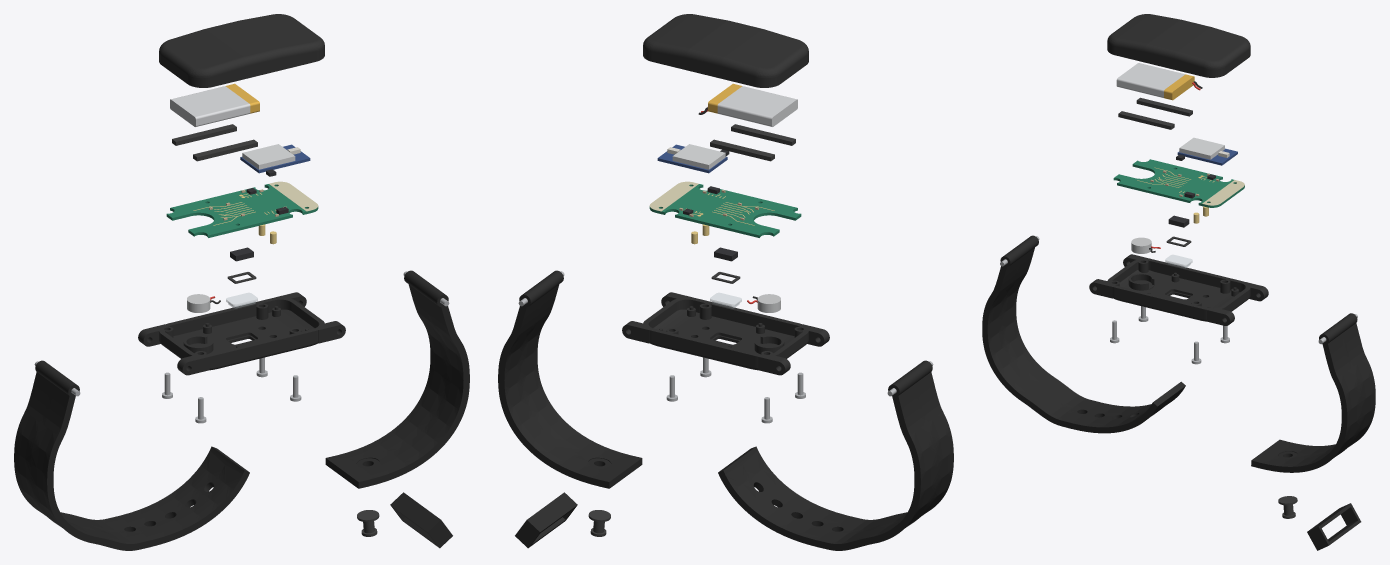
File: bracelet_exploded.glb
3 views of the same model, side by side, from view 1: azimuth 30°, elevation 25°; view 2: azimuth 150°, elevation 25°; view 3: azimuth 330°, elevation 25° (orthographic). The views are drawn at different scales.
Parts seen in each view (by area): view 1: Band_strap_B_long, Band_strap_A_short, Lower_housing, Upper_housing_removable_cover, PCB_main_board, LiPo_battery_pouch, Band_keeper_loop, Battery_foam_spacers, BLE_MCU_shield_can_nRF52832, PCB_antenna_keepout; view 2: Band_strap_B_long, Band_strap_A_short, Lower_housing, Upper_housing_removable_cover, PCB_main_board, LiPo_battery_pouch, Band_keeper_loop, Battery_foam_spacers, BLE_MCU_shield_can_nRF52832, PCB_antenna_keepout; view 3: Band_strap_B_long, Lower_housing, Band_strap_A_short, Upper_housing_removable_cover, PCB_main_board, LiPo_battery_pouch, Band_keeper_loop, Battery_foam_spacers, BLE_MCU_shield_can_nRF52832.
Boxes of the visible parts, x1,y1,x2,y2 form: Band_strap_B_long: (14, 360, 249, 550); Band_strap_A_short: (325, 270, 469, 488); Lower_housing: (138, 292, 345, 375); Upper_housing_removable_cover: (159, 14, 324, 87); PCB_main_board: (166, 184, 318, 237); LiPo_battery_pouch: (170, 86, 250, 126); Band_keeper_loop: (390, 492, 452, 548); Battery_foam_spacers: (172, 124, 257, 161); BLE_MCU_shield_can_nRF52832: (242, 144, 295, 169); PCB_antenna_keepout: (269, 181, 318, 211); Band_strap_B_long: (718, 360, 953, 550); Band_strap_A_short: (498, 270, 642, 488); Lower_housing: (622, 292, 829, 375); Upper_housing_removable_cover: (643, 14, 808, 87); PCB_main_board: (649, 184, 801, 237); LiPo_battery_pouch: (717, 86, 797, 126); Band_keeper_loop: (515, 492, 577, 548); Battery_foam_spacers: (710, 124, 795, 161); BLE_MCU_shield_can_nRF52832: (672, 144, 725, 169); PCB_antenna_keepout: (649, 181, 698, 211); Band_strap_B_long: (982, 235, 1185, 433); Lower_housing: (1089, 254, 1268, 325); Band_strap_A_short: (1251, 313, 1375, 472); Upper_housing_removable_cover: (1107, 14, 1250, 77); PCB_main_board: (1113, 159, 1244, 207); LiPo_battery_pouch: (1116, 63, 1184, 97); Band_keeper_loop: (1307, 503, 1361, 550); Battery_foam_spacers: (1118, 97, 1192, 129); BLE_MCU_shield_can_nRF52832: (1179, 137, 1224, 159).
Size of the model in its own units: 0.1316 by 0.1604 by 0.024.
